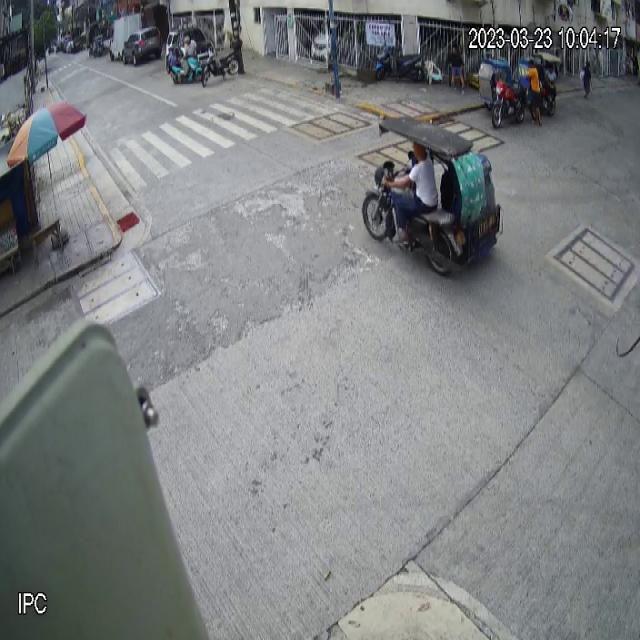Tricycle: (362, 114, 505, 278)
